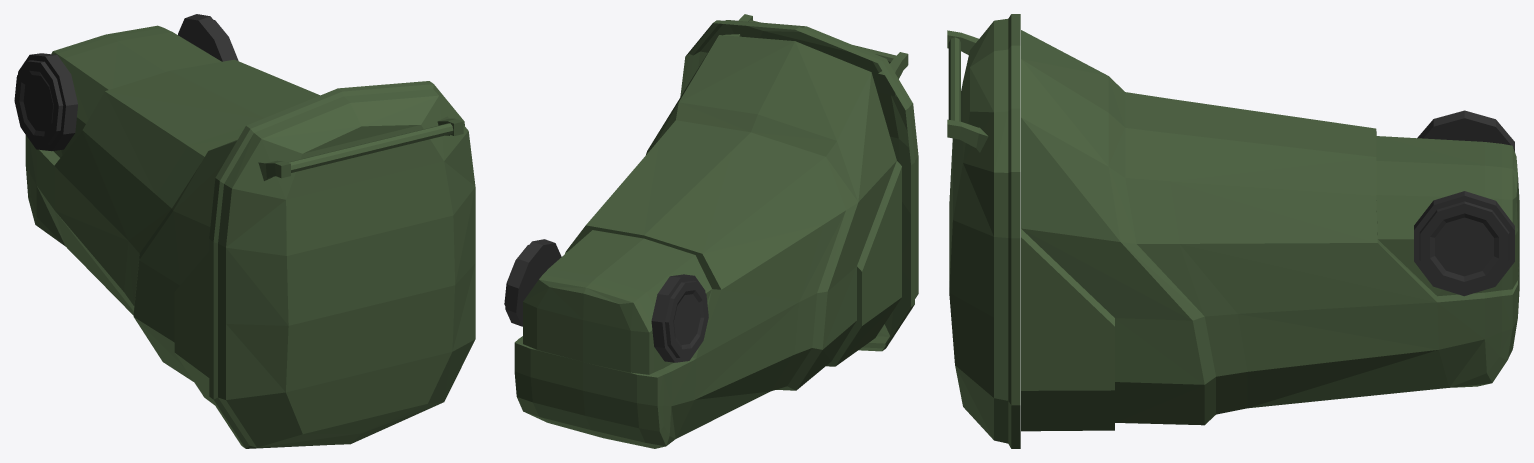
File: trash-bin-wheeled.obj
The picture shows the model from 3 angles, left to right: view 1: azimuth 30°, elevation 25°; view 2: azimuth 150°, elevation 25°; view 3: azimuth 270°, elevation 25°; orthographic projection. The views are drawn at different scales.
Parts seen in each view (by area): view 1: trash-bin-wheeled; view 2: trash-bin-wheeled; view 3: trash-bin-wheeled.
Boxes of the visible parts, x1,y1,x2,y2 form: trash-bin-wheeled: [14, 14, 475, 448]; trash-bin-wheeled: [504, 14, 918, 448]; trash-bin-wheeled: [947, 14, 1519, 448].
Bounding box in the file's own units: 23.12 × 30.23 × 42.
